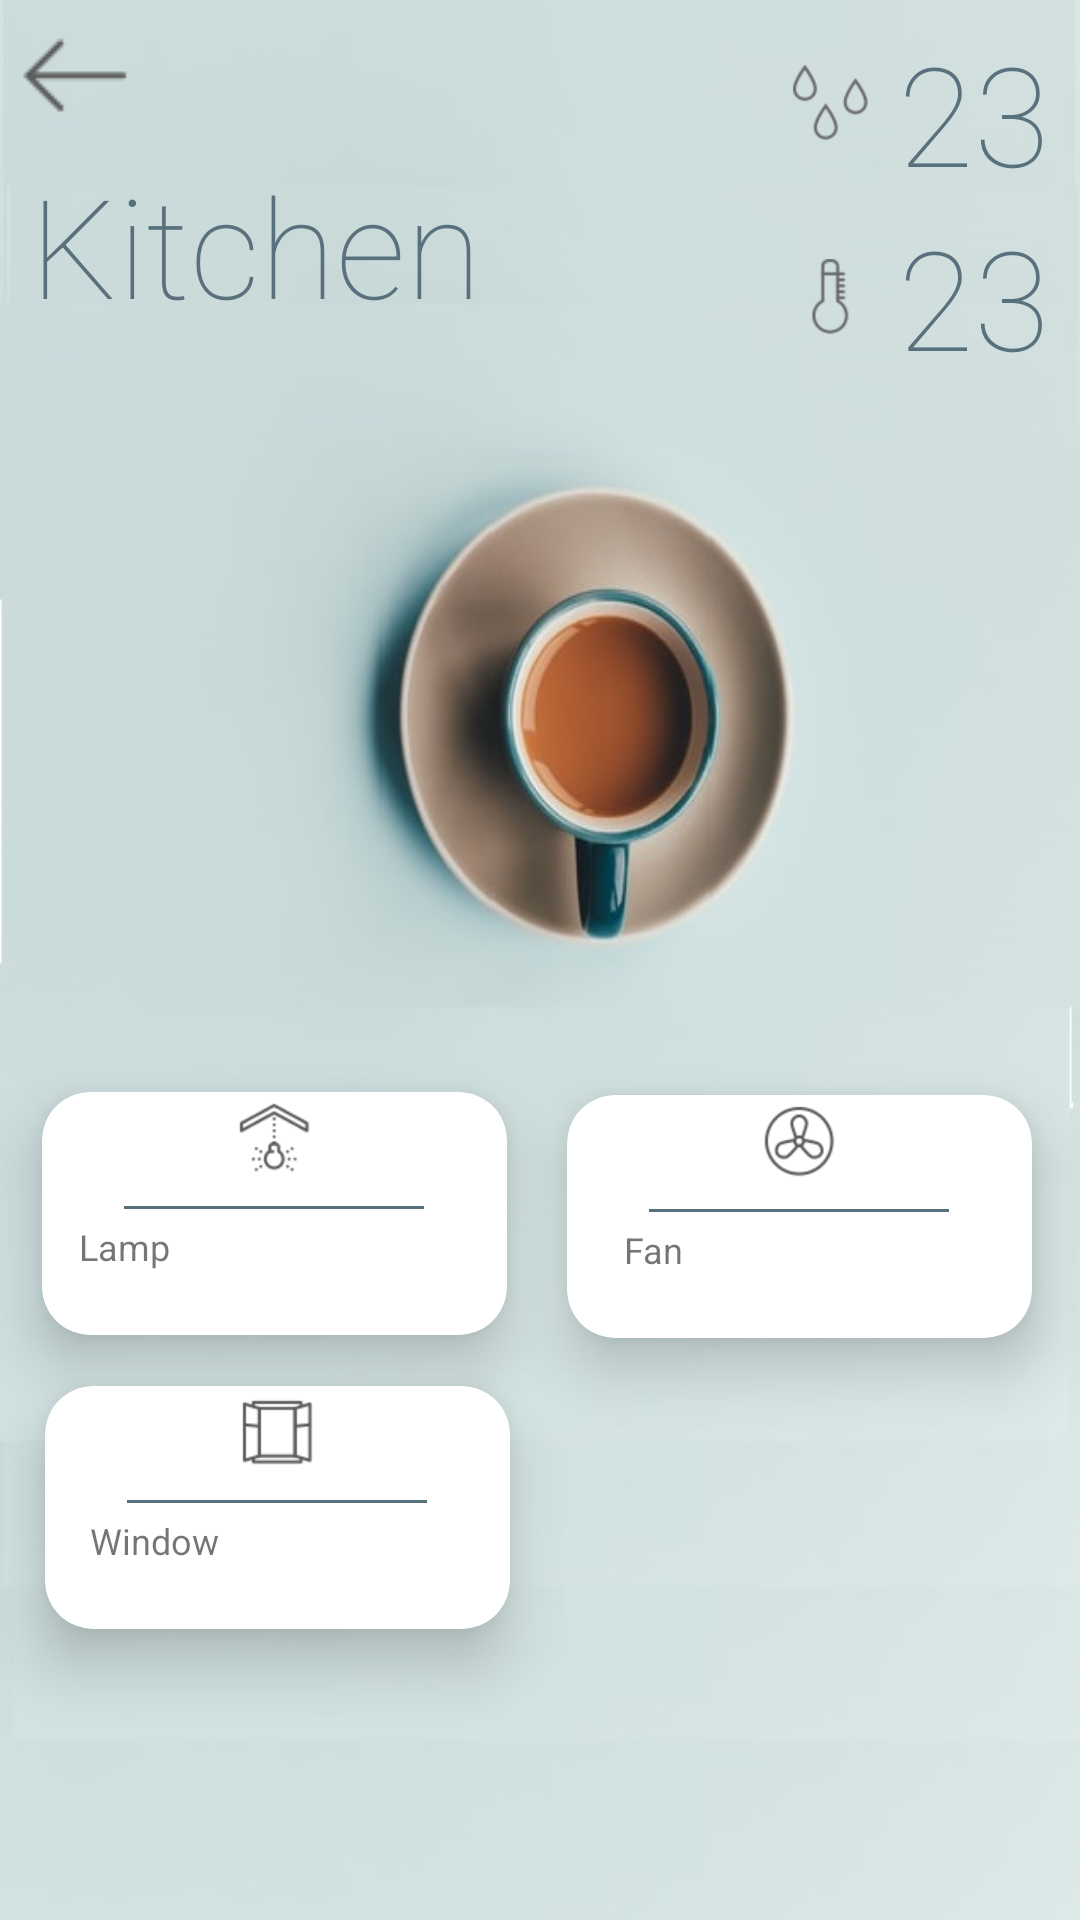

Locate icon controls on the screen. Image size 1080 x 1920, boxes as (x1, y1, x2, y2).
lemp: (239, 1104, 309, 1172)
wet: (793, 65, 868, 140)
